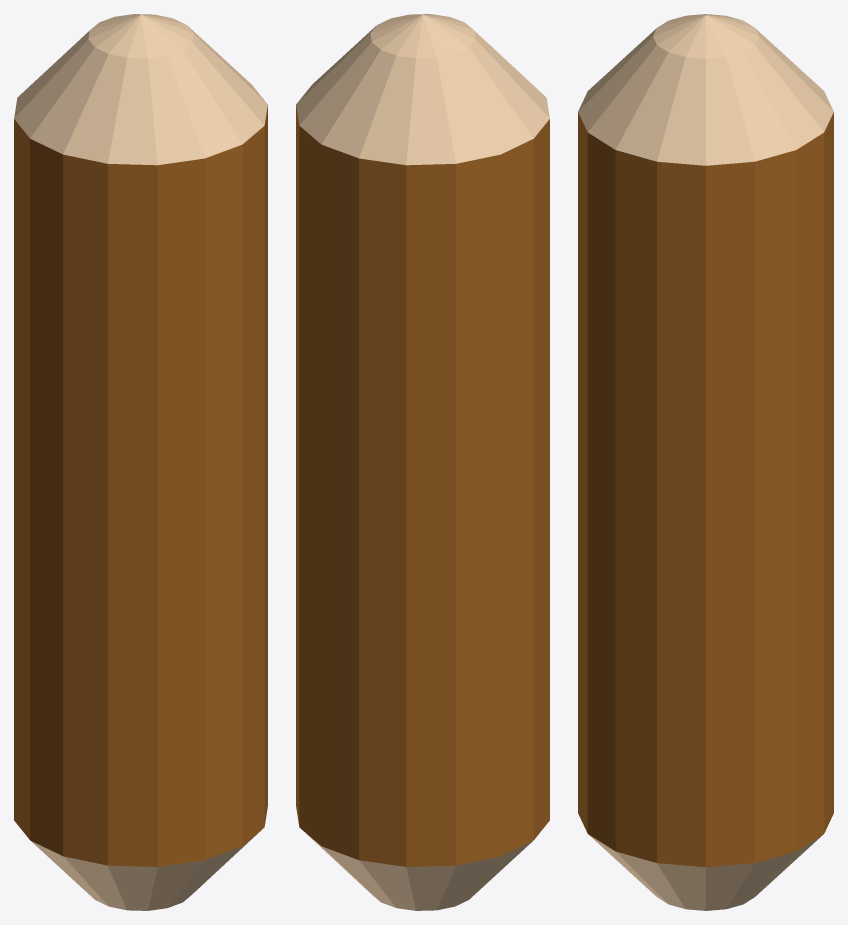
File: DividedTree.fbx
3 renders of one model, left to right at view 1: azimuth 30°, elevation 25°; view 2: azimuth 150°, elevation 25°; view 3: azimuth 270°, elevation 25°, orthographic.
Visible parts, largest first — view 1: DividedTree; view 2: DividedTree; view 3: DividedTree.
Boxes of the visible parts, x1,y1,x2,y2 form: DividedTree: (14,14,267,910); DividedTree: (296,14,549,910); DividedTree: (578,14,833,910).
Bounding box in the file's own units: 90 × 347 × 90.
